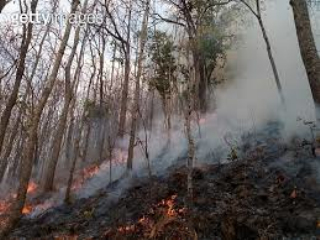fire: (156, 189, 189, 223), (18, 175, 37, 216)
smoke: (202, 3, 312, 145), (55, 108, 219, 194)
